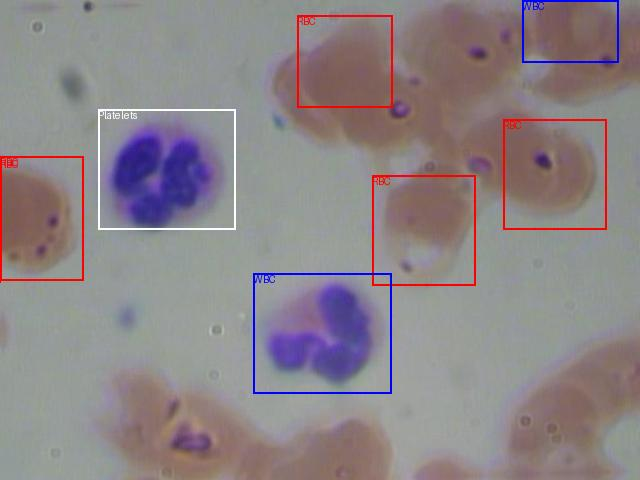Platelets: (98, 109, 235, 229)
RBC: (372, 175, 475, 285), (503, 119, 606, 229), (0, 156, 83, 280), (297, 15, 392, 107)
WBC: (253, 273, 391, 393), (522, 0, 618, 62)
